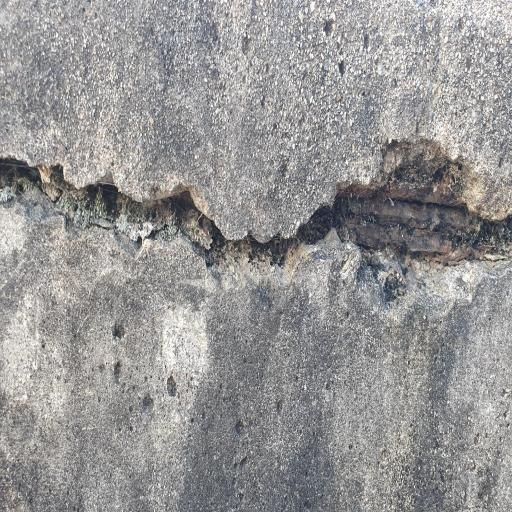exposed_rebar: (331, 194, 496, 263)
spalling: (0, 142, 512, 264)
